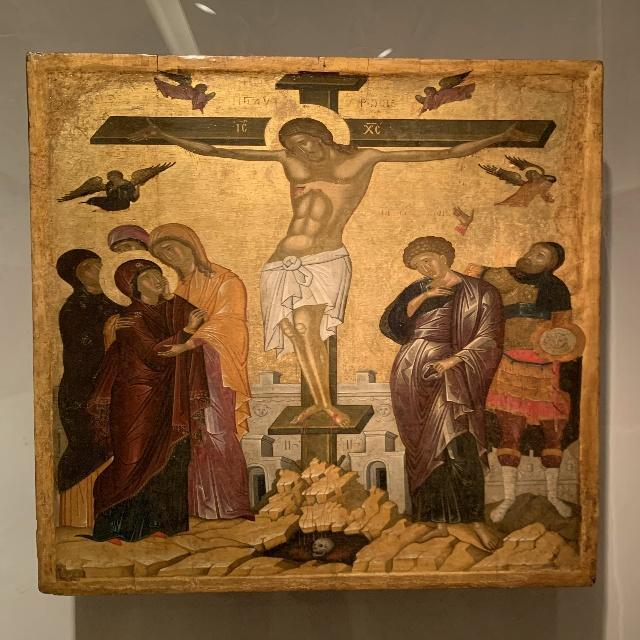angel: (56, 157, 195, 216), (478, 151, 566, 229), (415, 70, 490, 116), (155, 67, 217, 113)
aura: (100, 251, 186, 307)
blood: (296, 407, 335, 560)
christ_crucifixion: (105, 72, 531, 500)
mary: (102, 249, 198, 542)
